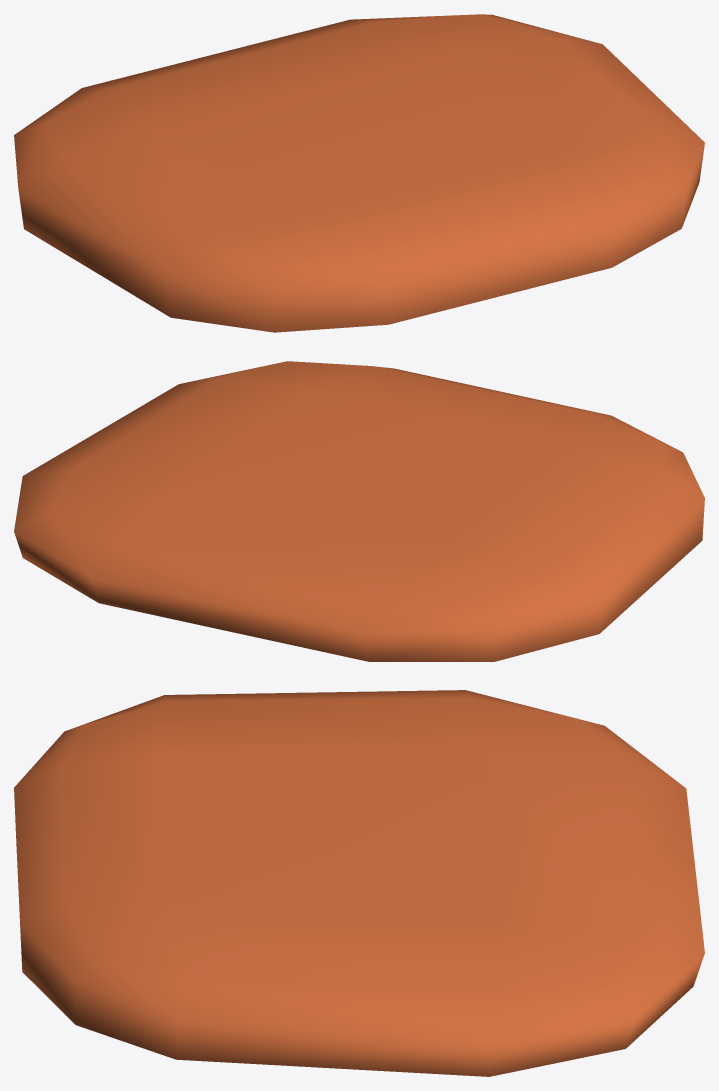
File: rocks_1.glb
3 renders of one model, top to bottom at view 1: azimuth 30°, elevation 25°; view 2: azimuth 150°, elevation 25°; view 3: azimuth 270°, elevation 25°, orthographic. The views are drawn at different scales.
Visible parts, largest first — view 1: rocks_1; view 2: rocks_1; view 3: rocks_1.
Boxes of the visible parts, left/top/right/bottom form: rocks_1: left=14, top=14, right=704, bottom=332; rocks_1: left=14, top=361, right=704, bottom=661; rocks_1: left=14, top=690, right=704, bottom=1076.
Size of the model in its own units: 1.11 by 0.1175 by 0.9431.
Materials: 1 (1 with a texture image).
